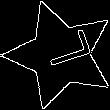L_W: (31, 32, 90, 78)
